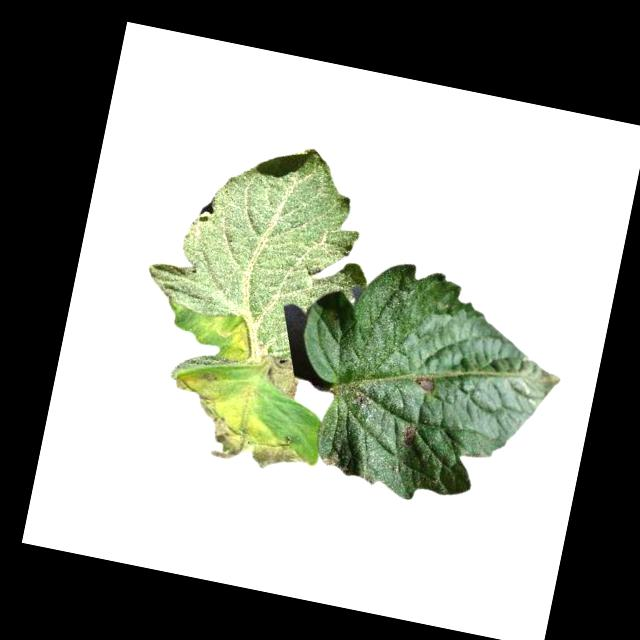Late_blight: (198, 314, 254, 363), (247, 435, 309, 477), (203, 417, 254, 467), (256, 356, 302, 399), (192, 392, 219, 417), (409, 371, 437, 393), (348, 386, 371, 408), (400, 421, 418, 445), (198, 369, 220, 383)
healthy: (134, 121, 392, 374)
